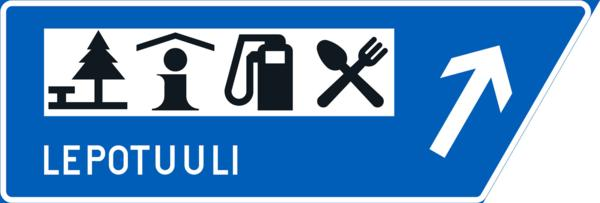Petrol Pump- Gas Station: (222, 16, 306, 129)
